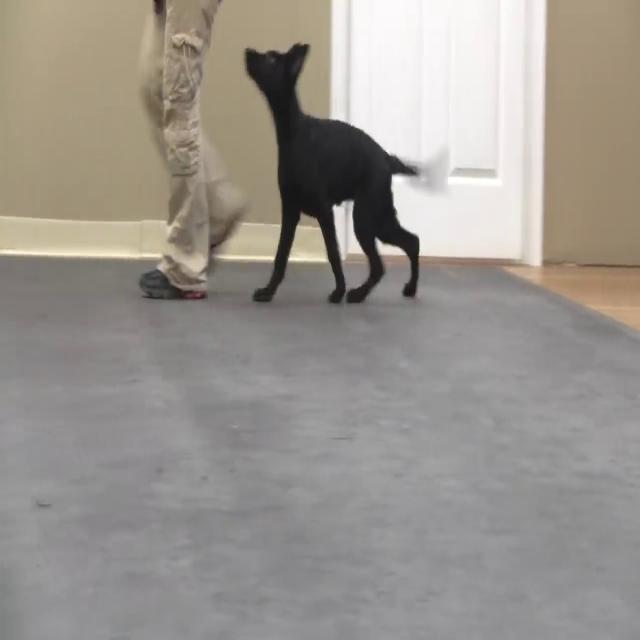Unleashed_Dog: (163, 43, 451, 303)
